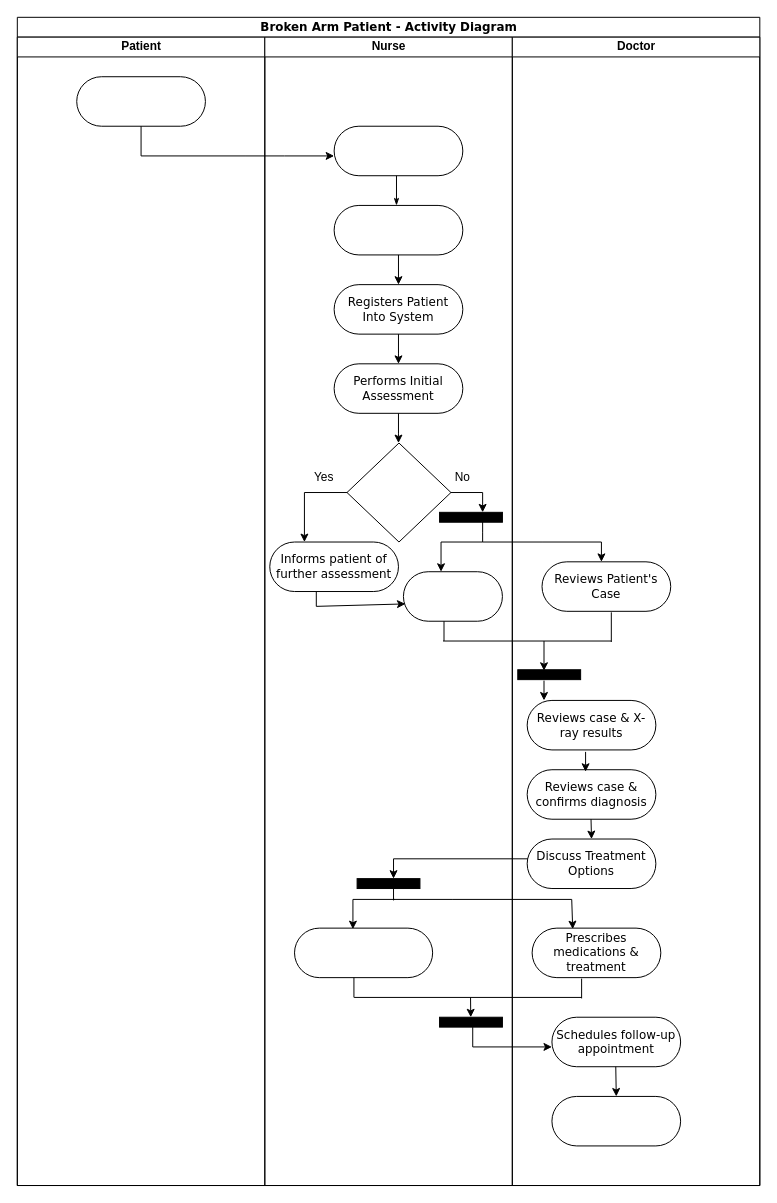
Some shapes in this 777 by 1203 pixel diagram are drawn without their labels. Here are the shapes that lost their labels. From the top down, the centre of each, then its label:
At [140,101]: "Arrives at Emergency Room".
At [398,150]: "Greets Patient".
At [398,229]: "Assesses Injury".
At [398,492]: "Needs further assessment? (Y/N?)".
At [452,596]: "Takes Patient for X-Rays".
At [363,952]: "Discuss Home Care Instructions with patient".
At [616,1120]: "Notifies Billing Staff".
